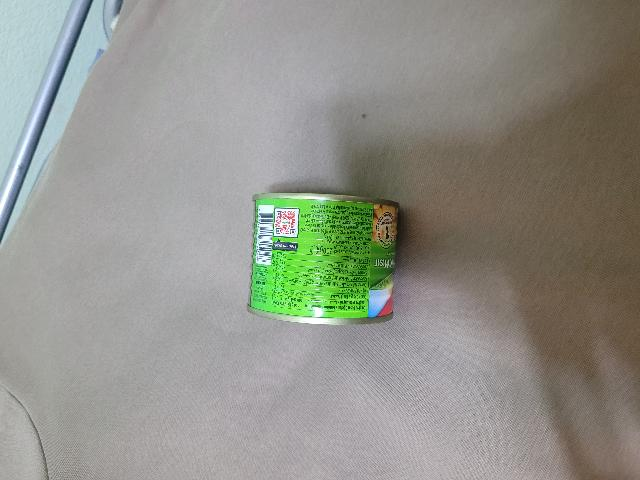Metal: (248, 194, 401, 327)
